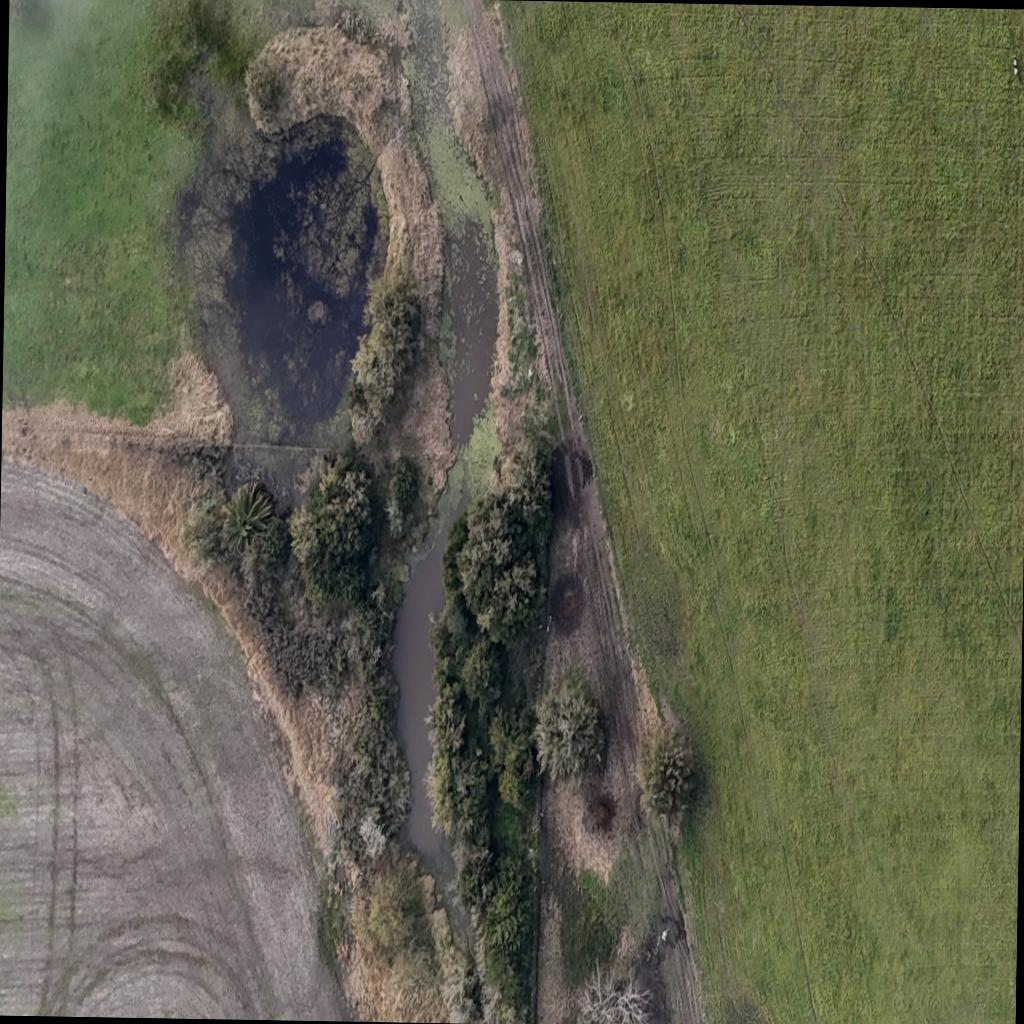cow: (1010, 56, 1020, 80)
